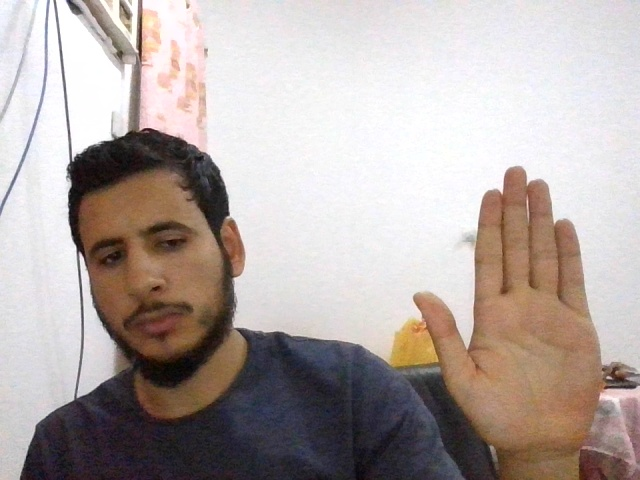Five: (414, 166, 604, 459)
